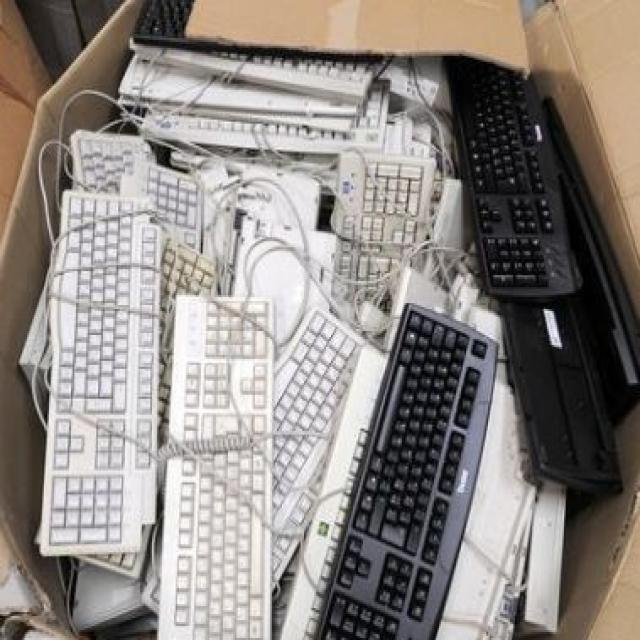electronic: (313, 290, 499, 640), (35, 168, 161, 576), (169, 279, 300, 640), (437, 46, 589, 326), (246, 280, 371, 576), (321, 128, 456, 364), (279, 270, 361, 638), (54, 87, 164, 260), (134, 90, 369, 166), (136, 145, 216, 294), (155, 232, 232, 314)
